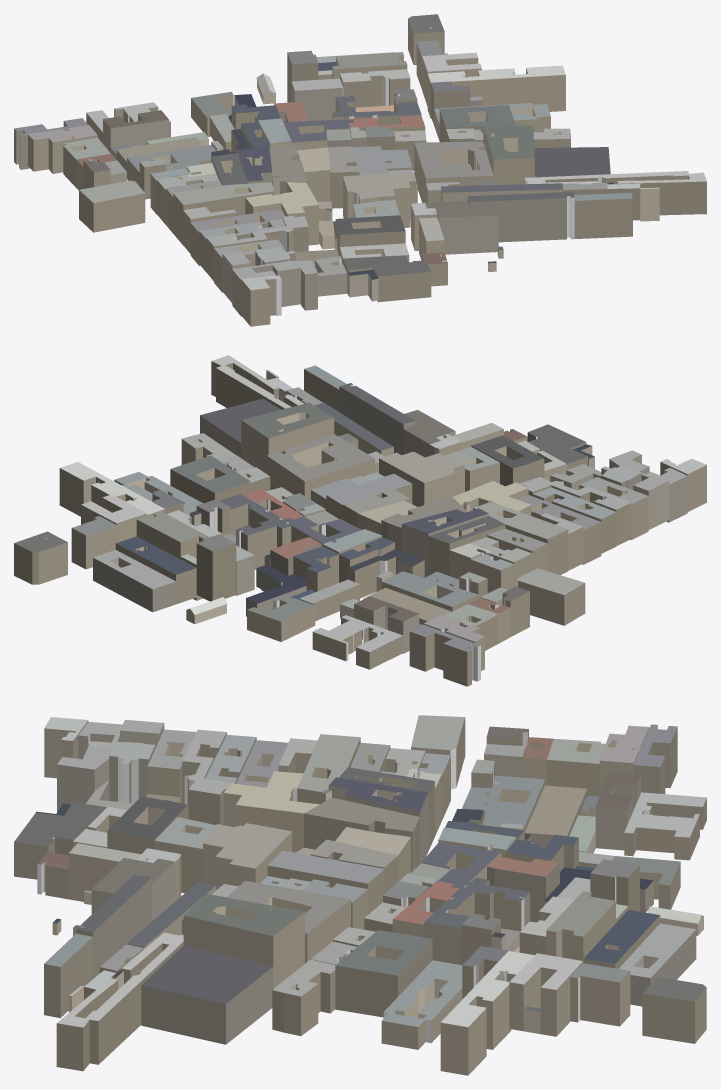
The picture shows the model from 3 angles, top to bottom: view 1: azimuth 30°, elevation 25°; view 2: azimuth 150°, elevation 25°; view 3: azimuth 270°, elevation 25°; orthographic projection. The views are drawn at different scales.
Visible parts, largest first — view 1: tuile; view 2: tuile; view 3: tuile.
Boxes of the visible parts, x1,y1,x2,y2 form: tuile: (14,14,706,326); tuile: (14,355,706,686); tuile: (14,715,706,1075).
Size of the model in its own units: 300 by 33.37 by 275.
